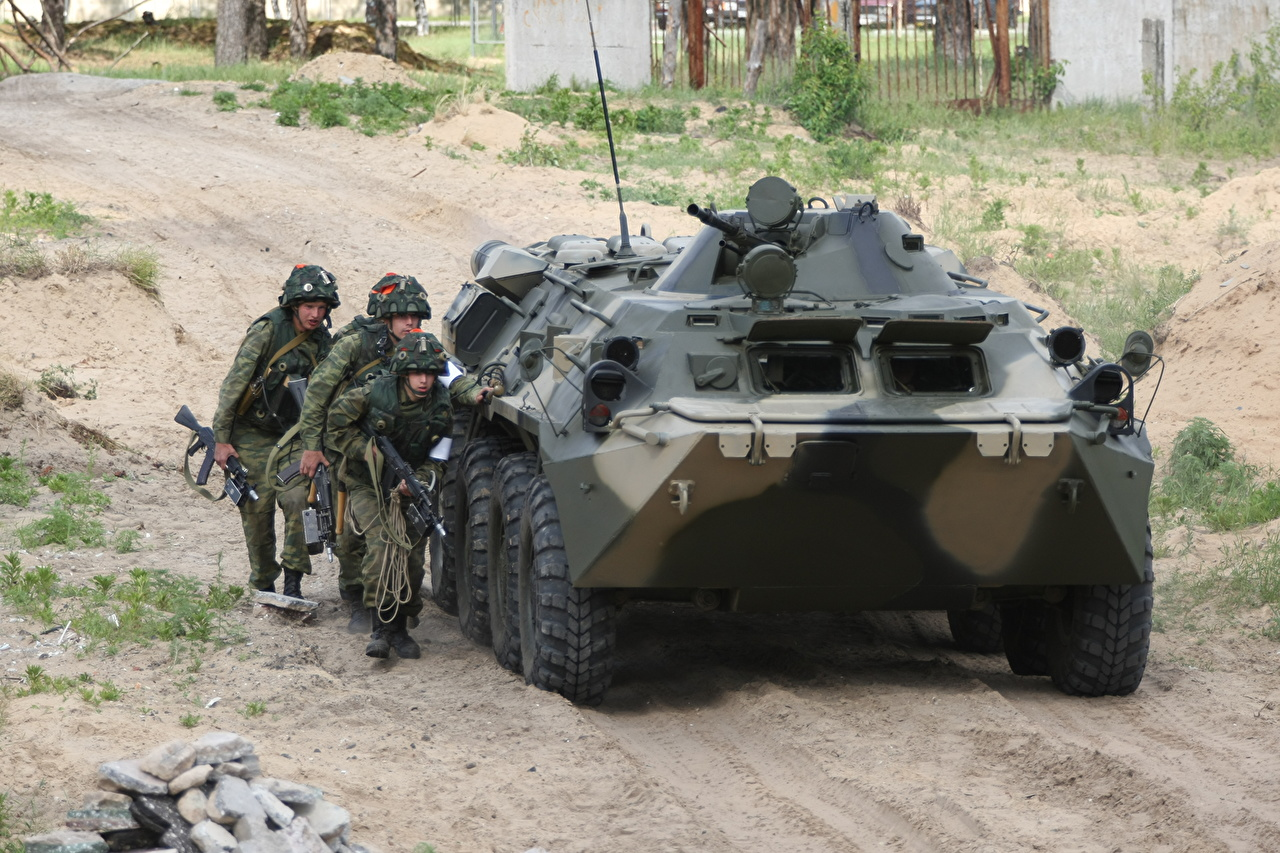btr: (422, 187, 1162, 677)
human: (321, 337, 496, 672), (202, 276, 353, 599), (308, 273, 442, 621)
